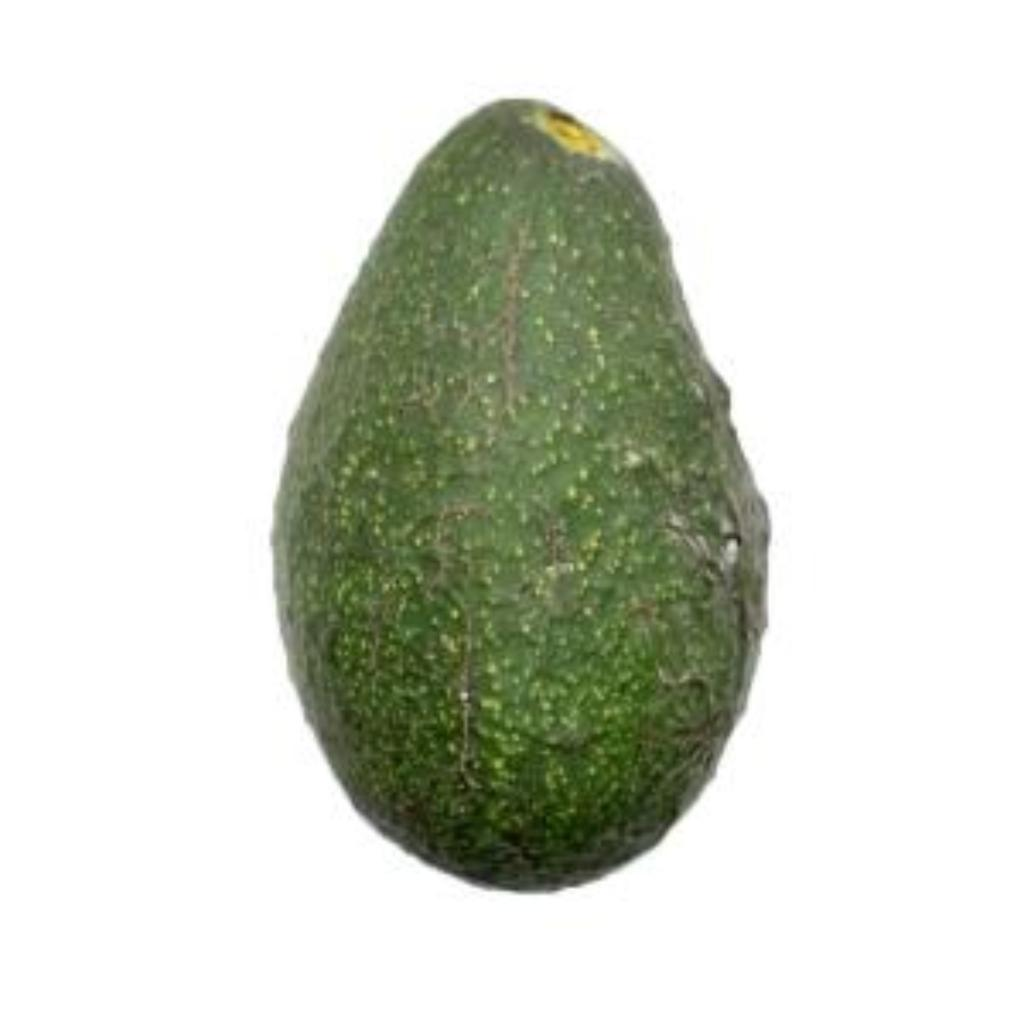cercospora: (272, 84, 791, 900)
